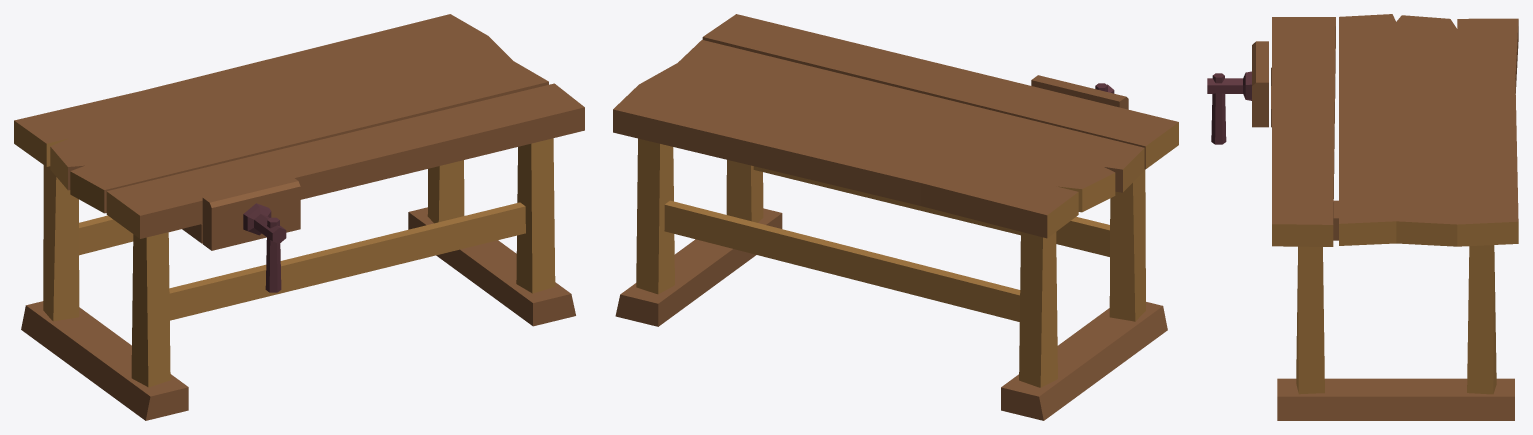
File: table-crafting-wood.fbx
The picture shows the model from 3 angles, left to right: view 1: azimuth 30°, elevation 25°; view 2: azimuth 150°, elevation 25°; view 3: azimuth 270°, elevation 25°; orthographic projection. The views are drawn at different scales.
Visible parts, largest first — view 1: table-crafting-wood; view 2: table-crafting-wood; view 3: table-crafting-wood.
Boxes of the visible parts, x1=… form: table-crafting-wood: x1=14, y1=14, x2=584, y2=420; table-crafting-wood: x1=613, y1=14, x2=1178, y2=420; table-crafting-wood: x1=1207, y1=14, x2=1518, y2=420.
Size of the model in its own units: 2.04 by 0.9187 by 1.27.
